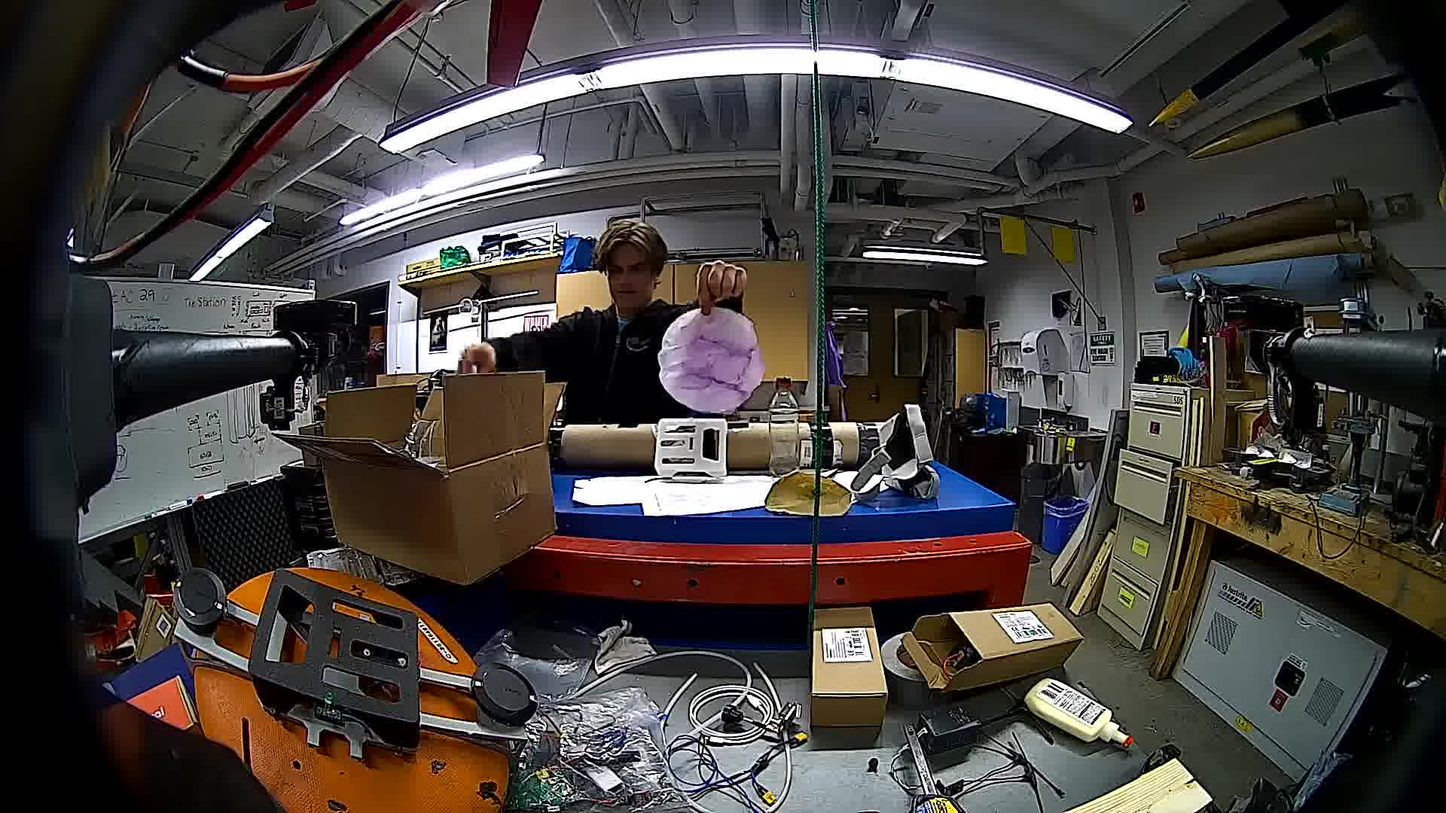Target: (655, 306, 764, 414)
